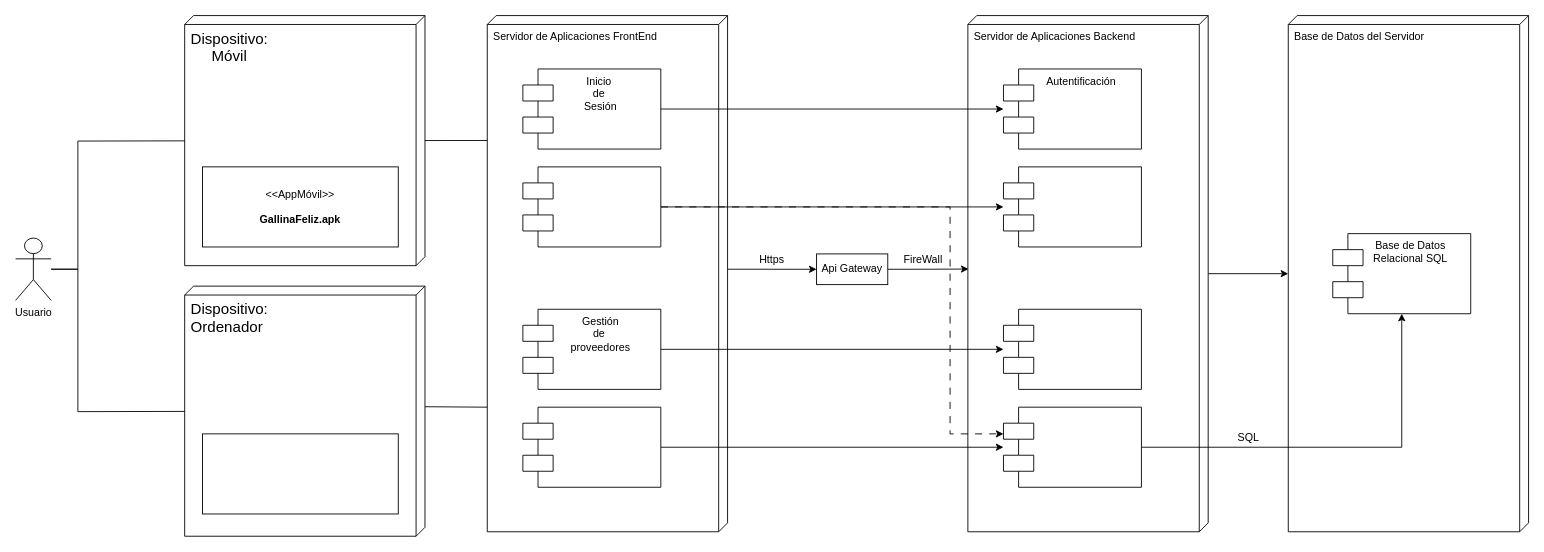
Image size: 1544x552. Some labels were removed from this diagram. The centre of each missing label's shape, as x and y in pixels:
<<AppPC>> GallinaFeliz.exe: pixel 300 473
Logs: pixel 1072 206
Métodos de Registro: pixel 1072 348
Obtener informaciones: pixel 1072 446
Operaciones de área de Calidad y Bodega: pixel 591 446
Reportes y Estadisticas: pixel 591 206
